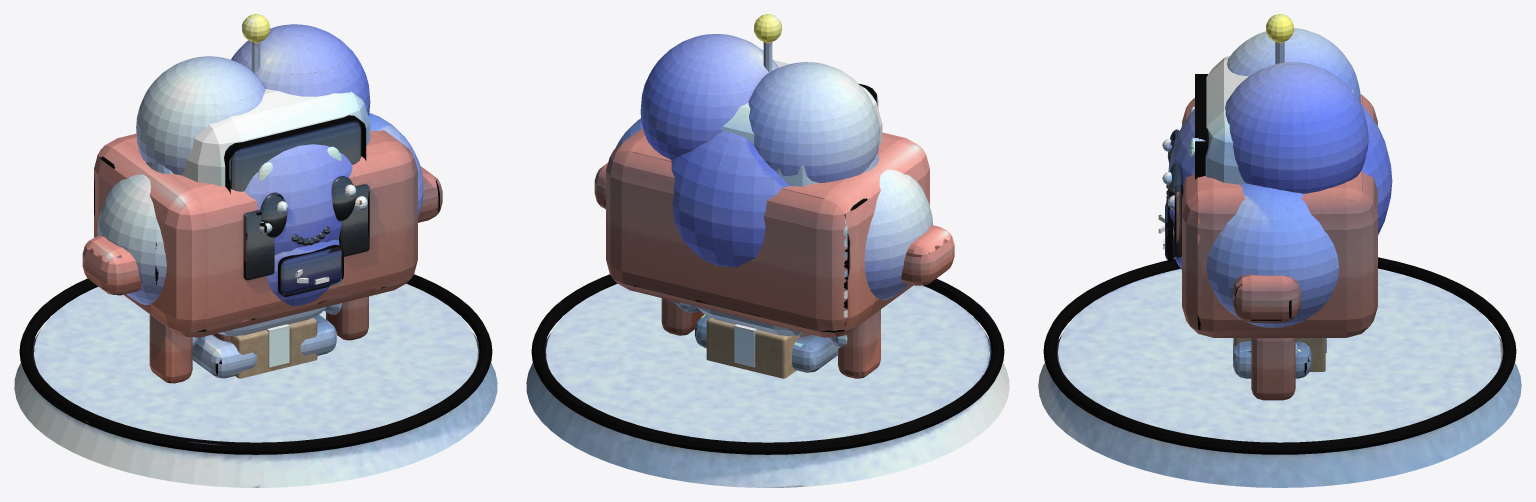
File: props.glb
3 renders of one model, left to right at view 1: azimuth 30°, elevation 25°; view 2: azimuth 150°, elevation 25°; view 3: azimuth 270°, elevation 25°, orthographic.
Visible parts, largest first — view 1: ped, agent-codex_body, agent-claude_body, agent-bot_head, agent-bot_face, agent-bot_body, agent-claude_armL, agent-claude_leg0, parcel, agent-claude_eyeL, agent-claude_eyeR, agent-claude_leg3 (+5 smaller); view 2: ped, agent-codex_body, agent-claude_body, parcel, agent-bot_body, agent-claude_armL, agent-claude_leg0, agent-bot_head, agent-claude_leg3, agent-bot_antenna, tape; view 3: ped, agent-codex_body, agent-claude_body, agent-bot_head, agent-claude_armR, agent-claude_leg3, agent-bot_face, agent-bot_body, agent-bot_antenna, parcel, agent-claude_eyeR.
Part boxes in pixels (x1,y1,x2,y2): ped: (14,274,497,487); agent-codex_body: (97,24,423,306); agent-claude_body: (94,130,417,337); agent-bot_head: (146,89,370,186); agent-bot_face: (224,115,366,193); agent-bot_body: (192,307,336,378); agent-claude_armL: (82,235,141,295); agent-claude_leg0: (149,314,192,383); parcel: (230,317,317,378); agent-claude_eyeL: (243,210,274,280); agent-claude_eyeR: (339,184,369,256); agent-claude_leg3: (326,296,368,340); ped: (526,274,1009,487); agent-codex_body: (615,34,932,300); agent-claude_body: (606,128,929,337); parcel: (706,317,800,378); agent-bot_body: (695,307,837,372); agent-claude_armL: (901,225,954,285); agent-claude_leg0: (838,309,880,378); agent-bot_head: (722,60,882,186); agent-claude_leg3: (661,298,704,335); agent-bot_antenna: (754,14,781,72); tape: (734,324,757,367); ped: (1038,257,1521,487); agent-codex_body: (1158,28,1392,327); agent-claude_body: (1182,94,1377,337); agent-bot_head: (1205,55,1354,184); agent-claude_armR: (1233,274,1300,322); agent-claude_leg3: (1251,338,1295,400); agent-bot_face: (1195,74,1207,179); agent-bot_body: (1233,338,1311,378); agent-bot_antenna: (1266,14,1293,64); parcel: (1234,338,1325,371); agent-claude_eyeR: (1167,184,1182,257).
Bounding box in the file's own units: 3.7 × 3.13 × 3.7.
Materials: 6 (6 with a texture image).
